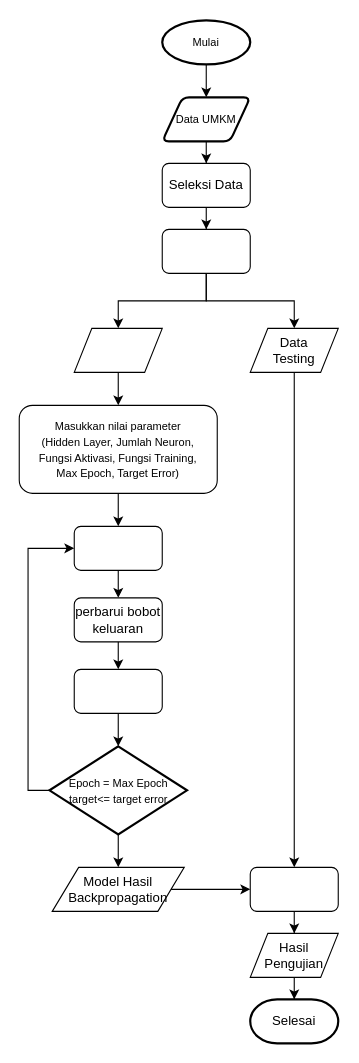
Some shapes in this 359 by 1063 pixel diagram are drawn without their labels. The shapes that lost their labels are listed below. From the top down, each one's box as (x1, y1, x2, y2) in pixels, then its label:
(161, 228, 250, 273): Preprocessing
(73, 327, 162, 372): Data Training
(73, 525, 162, 570): Proses feedforward
(73, 668, 162, 713): hasil bobot keluaran
(249, 866, 338, 911): Pengujian
